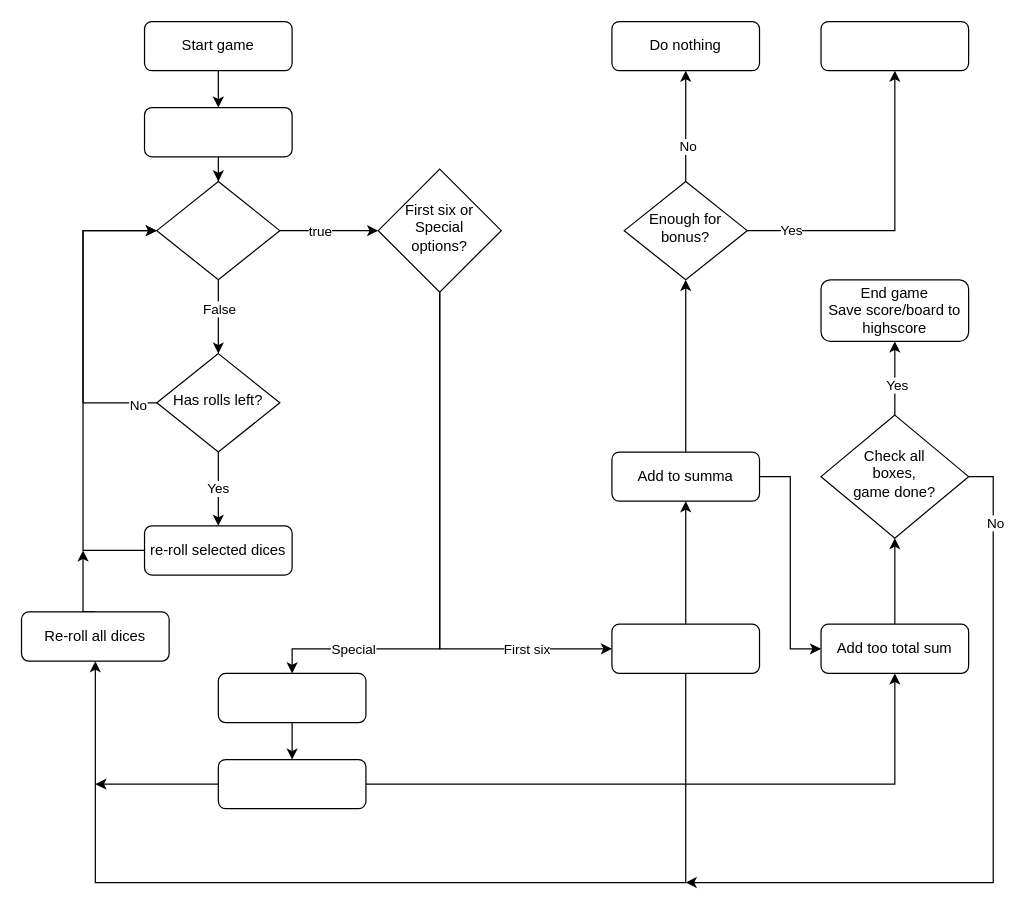
Some shapes in this 1025 by 914 pixel diagram are drawn without their labels. Here are the shapes that lost their labels. From the top down, the box of each, then its label:
(820, 20, 969, 71): Add bonus to total sum
(143, 106, 292, 157): Roll first throw
(156, 180, 280, 280): Selected Option?
(611, 623, 760, 673): Add dices matching to sum of number
(217, 672, 366, 723): Check what specific special option
(217, 758, 366, 809): Get sum of special
